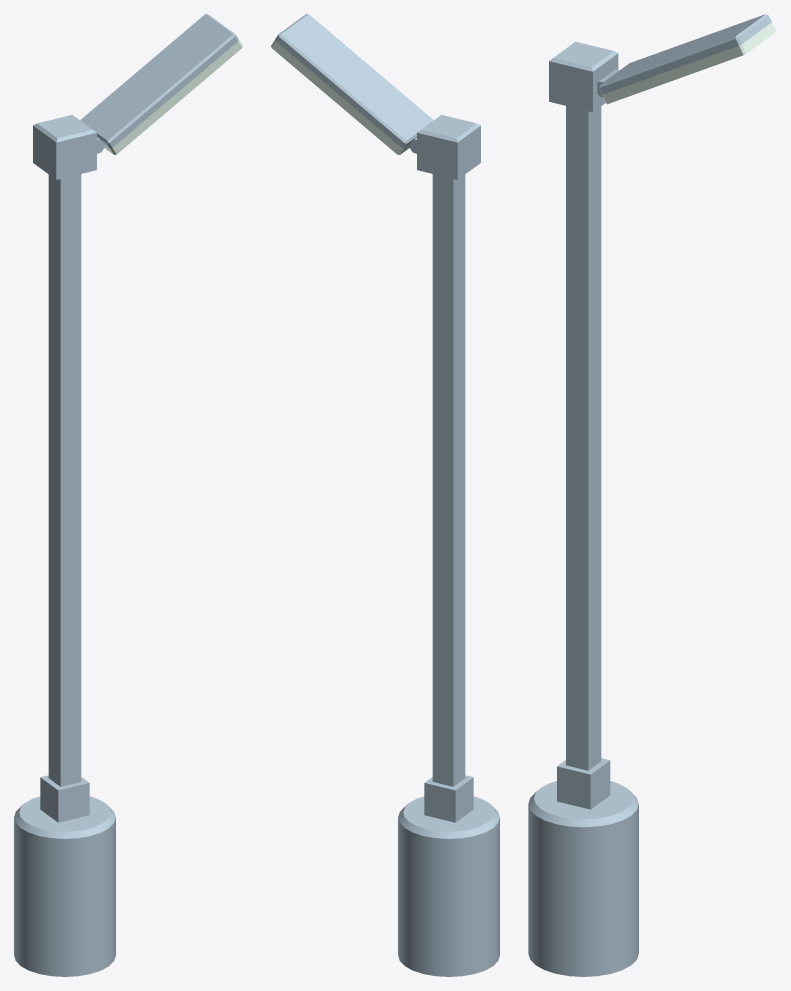
The model's file is streetlight_18.fbx.
3 renders of one model, left to right at view 1: azimuth 30°, elevation 25°; view 2: azimuth 150°, elevation 25°; view 3: azimuth 330°, elevation 25°, orthographic. The views are drawn at different scales.
Parts seen in each view (by area): view 1: pCube21, streetlight_18, pCube22; view 2: pCube21, streetlight_18, pCube22; view 3: pCube21, streetlight_18, pCube22.
Boxes of the visible parts, bbox=[...] form: pCube21: bbox=[33, 114, 96, 822]; streetlight_18: bbox=[14, 796, 115, 976]; pCube22: bbox=[80, 14, 242, 154]; pCube21: bbox=[417, 114, 480, 822]; streetlight_18: bbox=[398, 796, 499, 976]; pCube22: bbox=[271, 14, 433, 154]; pCube21: bbox=[549, 41, 618, 809]; streetlight_18: bbox=[528, 781, 638, 976]; pCube22: bbox=[599, 14, 776, 104].
Size of the model in its own units: 2.72 by 11.14 by 1.15.
